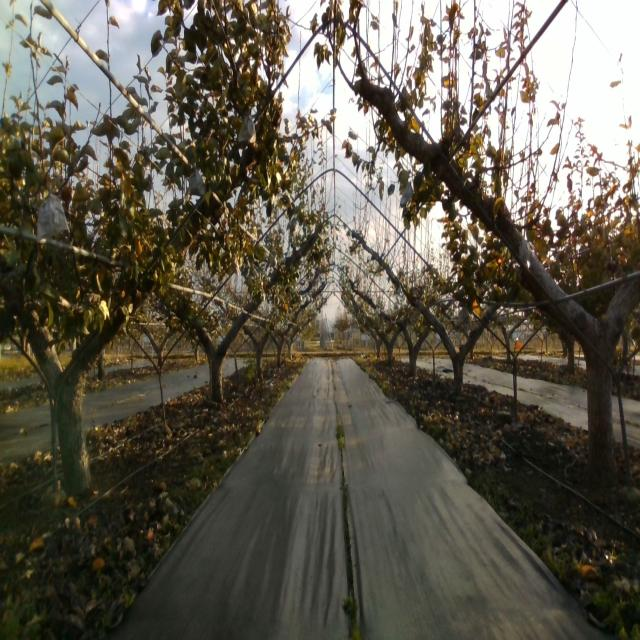pearbags: (36, 186, 70, 243), (237, 115, 257, 144), (188, 166, 205, 198), (518, 237, 534, 270), (399, 181, 413, 212), (455, 305, 472, 329), (288, 216, 300, 238)
